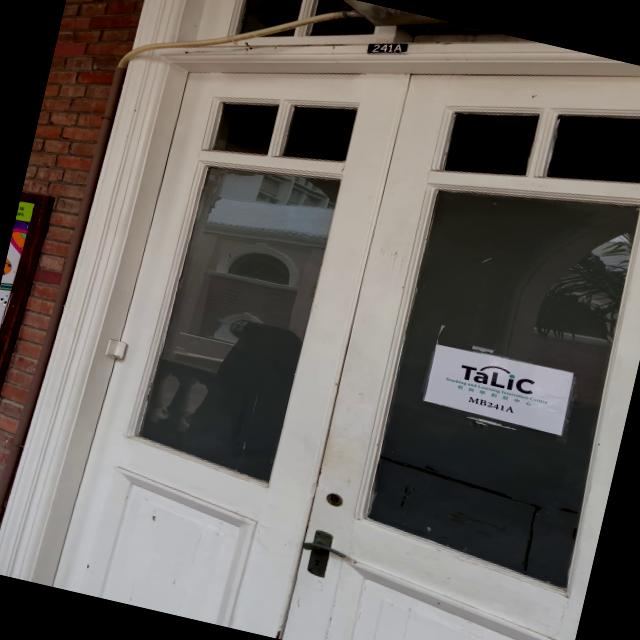room241a: (364, 33, 410, 63)
